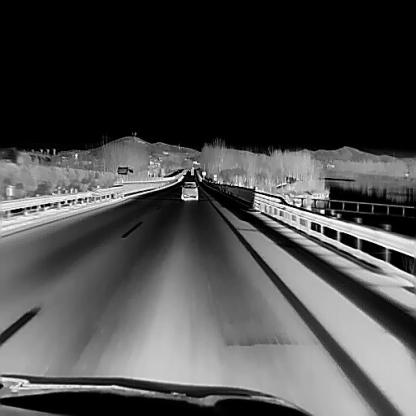car: (180, 180, 198, 200)
